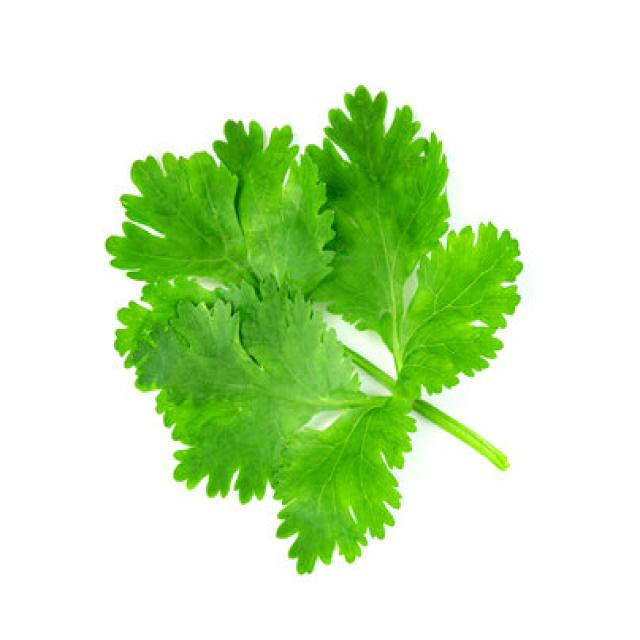Coriander Leaves: (108, 75, 528, 565)
